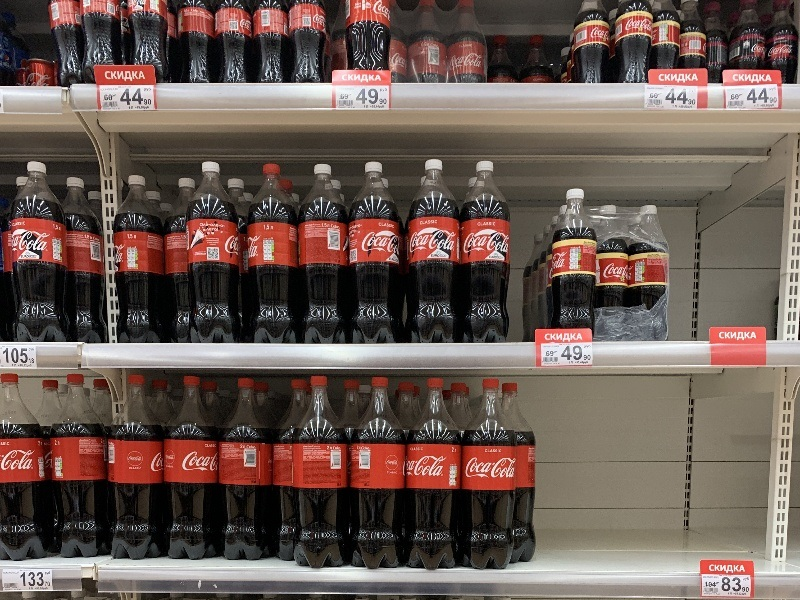lemonade: (1, 156, 76, 348), (42, 372, 114, 563), (288, 371, 354, 571), (346, 372, 409, 576), (344, 159, 408, 355), (181, 156, 245, 351), (103, 371, 165, 569), (291, 155, 352, 353), (406, 374, 465, 577), (212, 372, 273, 568), (162, 372, 224, 564), (243, 155, 303, 350), (405, 155, 464, 350), (460, 373, 515, 576), (456, 153, 513, 348), (108, 169, 167, 350), (1, 373, 50, 563), (553, 184, 601, 342)
